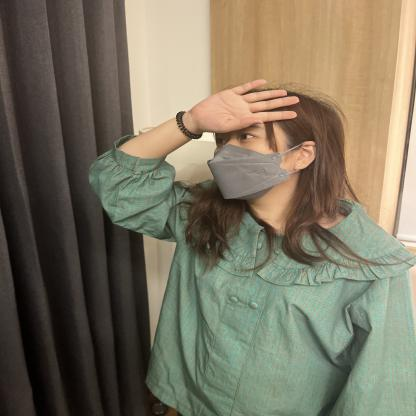Sick: (108, 56, 406, 183)
